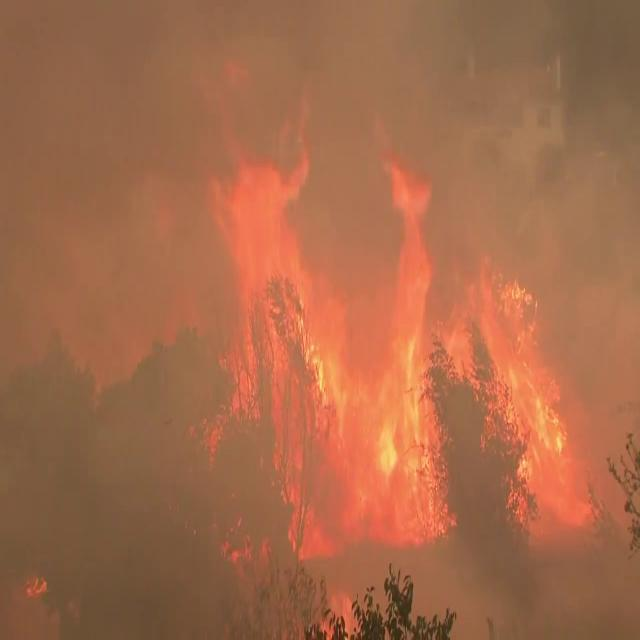Fire: (217, 126, 460, 542), (478, 269, 584, 533)
Smoke: (0, 1, 270, 568)
